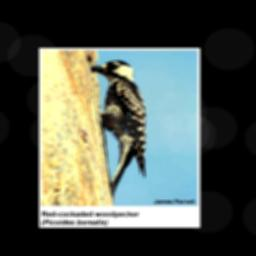Woodpecker: (87, 59, 150, 197)
